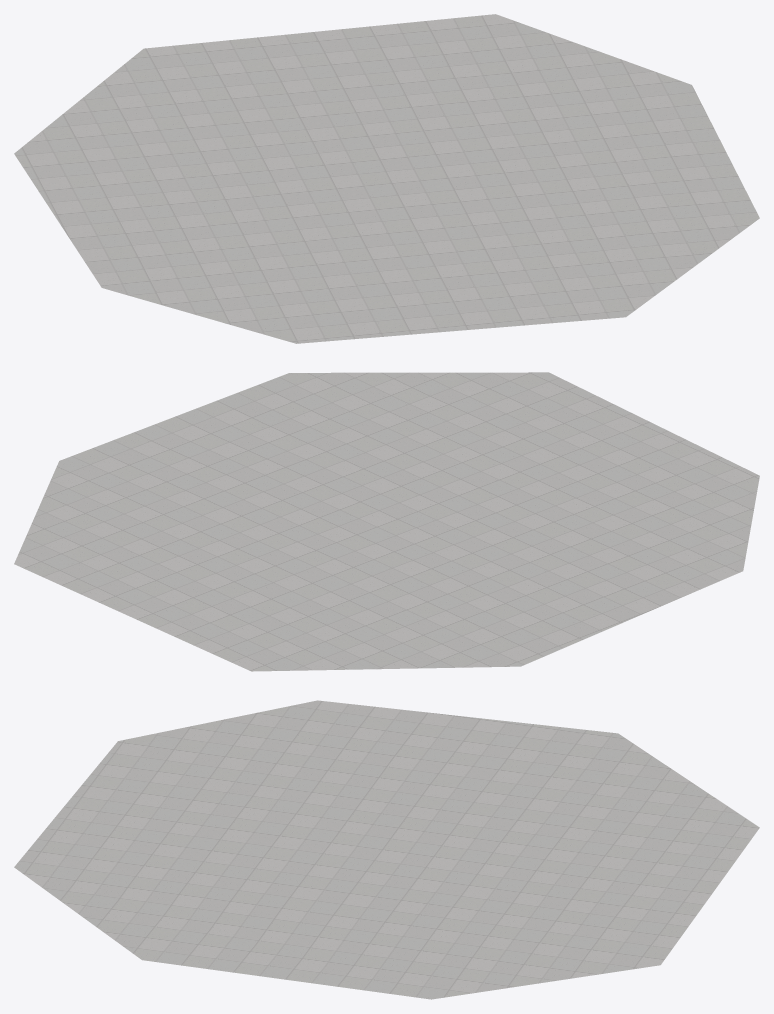
Rendered from kd_connection_world-inner_surface_16_9.glb.
The picture shows the model from 3 angles, top to bottom: view 1: azimuth 30°, elevation 25°; view 2: azimuth 150°, elevation 25°; view 3: azimuth 270°, elevation 25°; orthographic projection. The views are drawn at different scales.
Visible parts, largest first — view 1: kd_connection_world-inner_surface_16_9; view 2: kd_connection_world-inner_surface_16_9; view 3: kd_connection_world-inner_surface_16_9.
Part boxes in pixels (x1=…): kd_connection_world-inner_surface_16_9: x1=14, y1=14, x2=759, y2=343; kd_connection_world-inner_surface_16_9: x1=14, y1=372, x2=759, y2=671; kd_connection_world-inner_surface_16_9: x1=14, y1=700, x2=759, y2=999.
Bounding box in the file's own units: 46.69 × 7.63e-06 × 49.2.
1 material, 1 textured.
